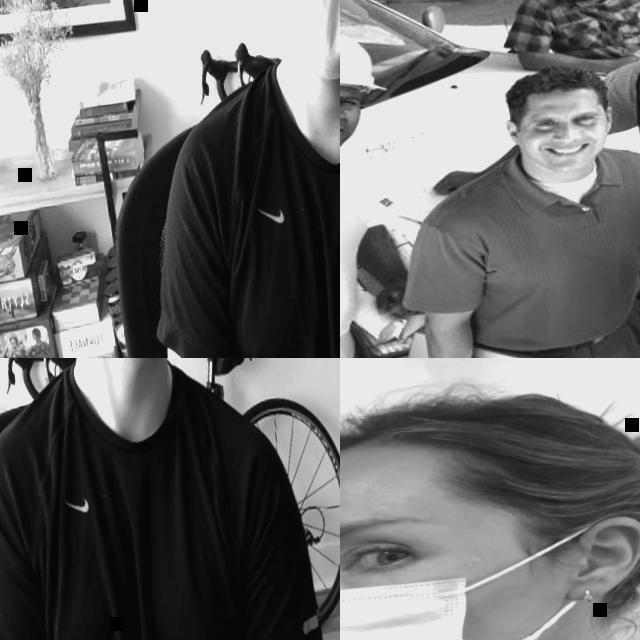helmet: (340, 22, 395, 107)
mask: (340, 513, 626, 640), (272, 0, 340, 87)
no_helmet: (340, 365, 640, 526), (504, 61, 620, 108)
no_mask: (528, 130, 608, 174), (340, 104, 368, 161)
no_vest: (3, 358, 276, 640), (202, 63, 340, 358), (446, 154, 640, 358), (340, 144, 397, 358), (536, 0, 640, 77)
person: (0, 358, 323, 640), (94, 0, 340, 358), (340, 358, 640, 640), (395, 52, 640, 358), (340, 21, 451, 358), (493, 0, 640, 83)
vehicle: (340, 0, 640, 358)
